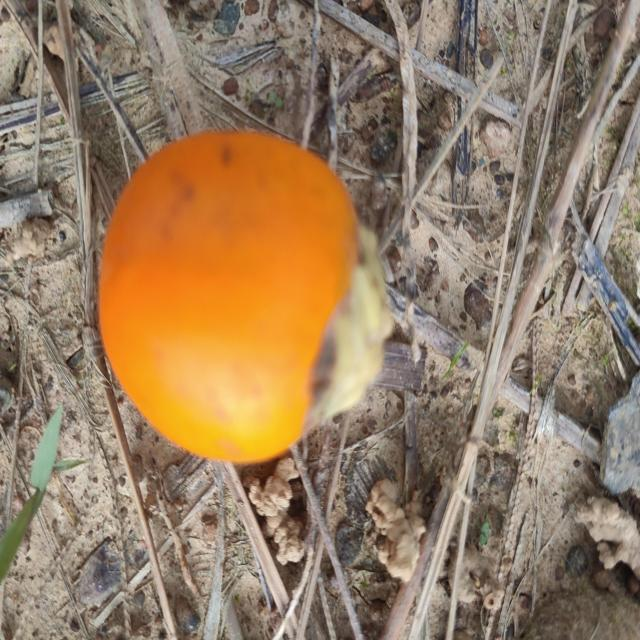good: (97, 130, 389, 467)
